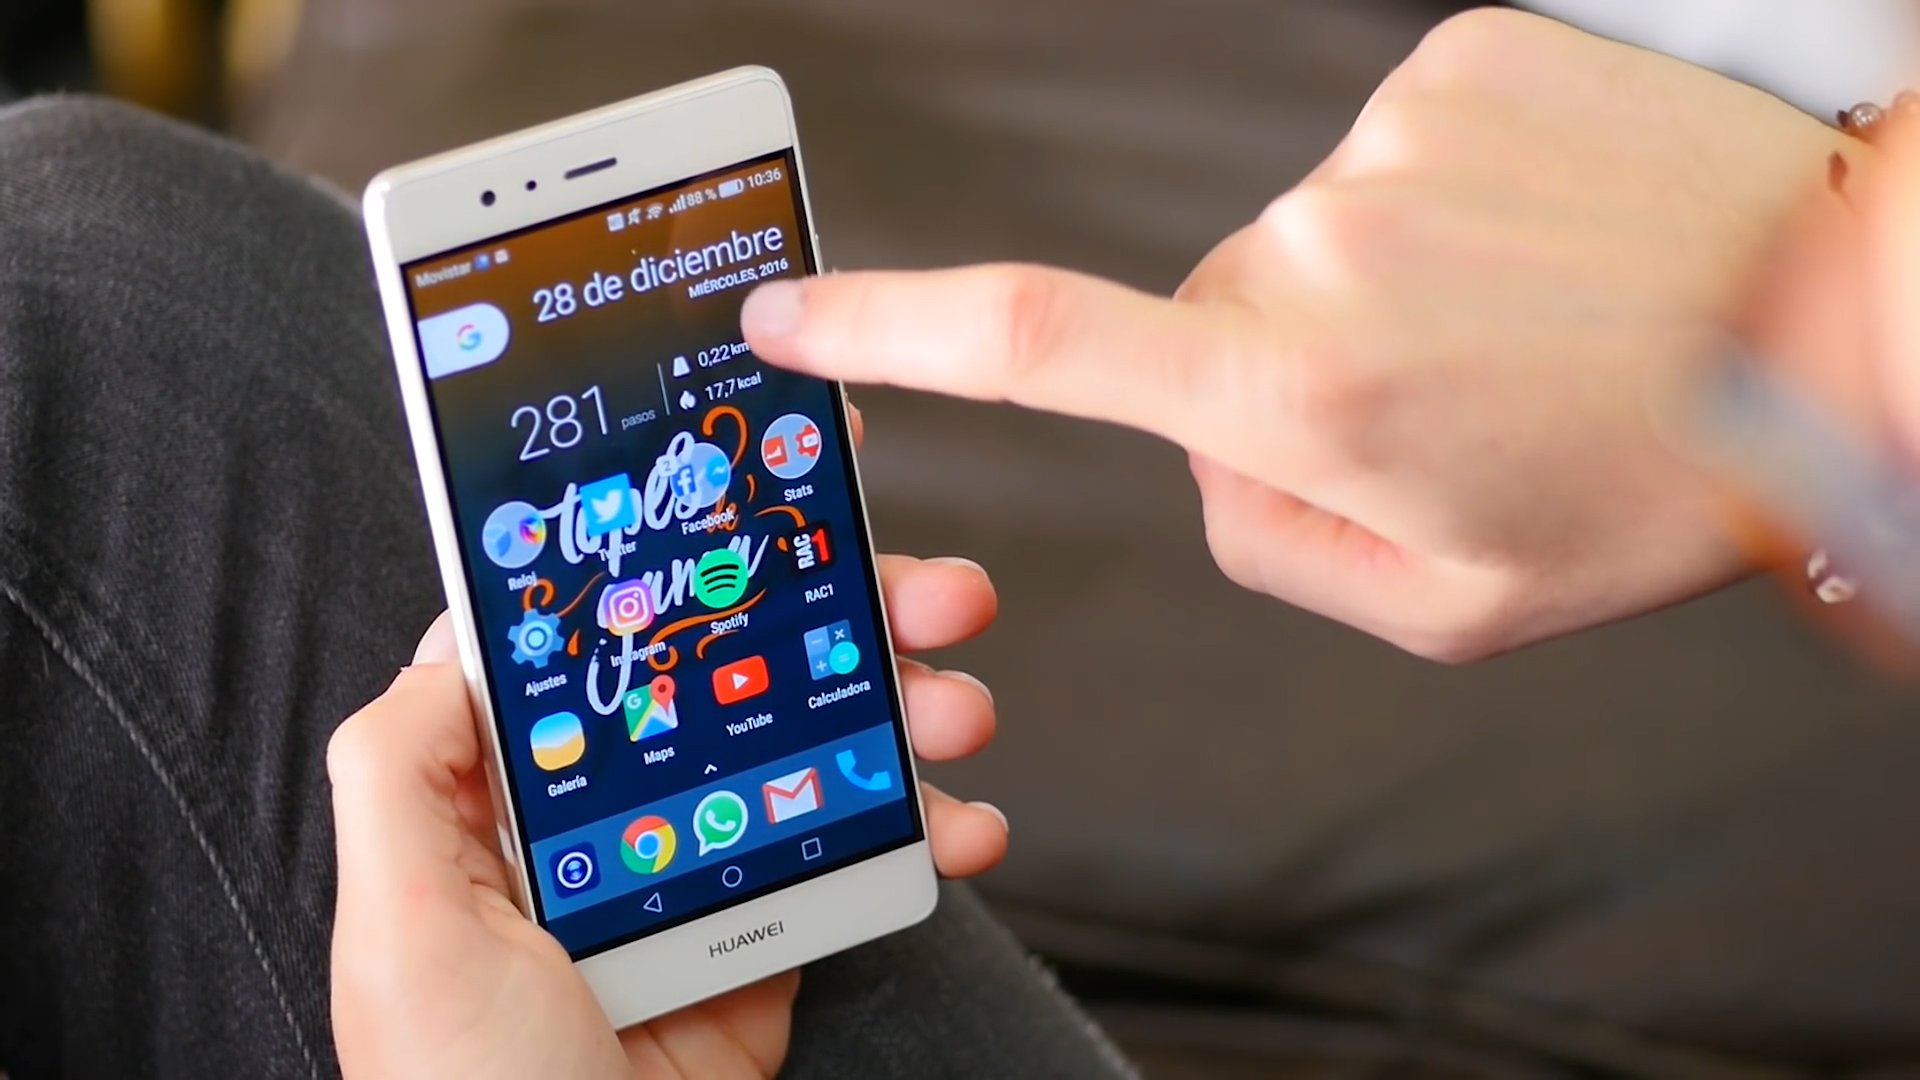smartphone: (355, 55, 944, 1048)
